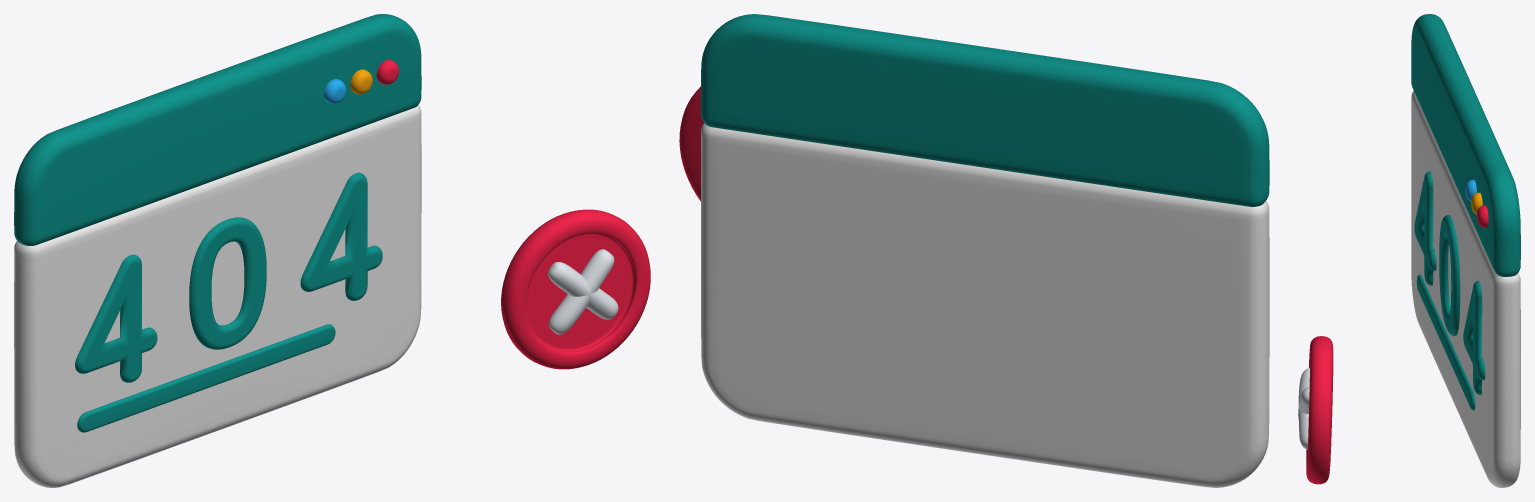
File: 404-page-3d-animated-icon-1183918860375.glb
3 renders of one model, left to right at view 1: azimuth 30°, elevation 25°; view 2: azimuth 150°, elevation 25°; view 3: azimuth 270°, elevation 25°, orthographic. The views are drawn at different scales.
Visible parts, largest first — view 1: Plane, Plane.002, X SIGN, Cube, X.001, Cylinder; view 2: Plane, Plane.002, X SIGN; view 3: Plane, Plane.002, X SIGN, Cube, X.001, Cylinder.
Boxes of the visible parts, x1,y1,x2,y2 form: Plane: (14,105,421,487); Plane.002: (14,14,421,245); X SIGN: (501,209,650,369); Cube: (77,324,335,432); X.001: (548,249,618,334); Cylinder: (324,59,399,103); Plane: (701,123,1269,487); Plane.002: (701,14,1269,206); X SIGN: (679,86,703,201); Plane: (1411,91,1520,487); Plane.002: (1411,14,1520,276); X SIGN: (1306,336,1333,484); Cube: (1416,274,1475,410); X.001: (1298,368,1309,449); Cylinder: (1465,179,1488,227).
Bounding box in the file's own units: 1.71 × 1.01 × 0.6492.
